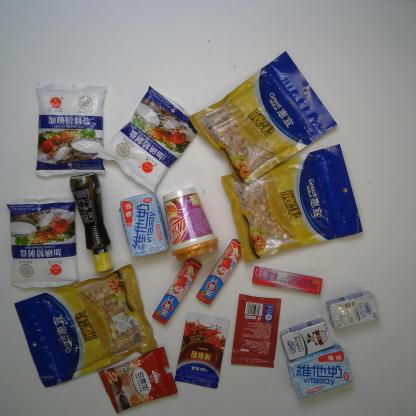Candy: (152, 258, 202, 324), (196, 239, 245, 305), (252, 266, 323, 294)
Dried Fruit: (189, 51, 337, 187), (14, 264, 158, 388), (221, 144, 363, 264)
Instant Drink: (98, 346, 178, 413), (162, 187, 218, 262)
Milk: (286, 344, 354, 400), (120, 192, 169, 258), (280, 318, 334, 361), (326, 291, 380, 329)
Seasoner: (97, 85, 204, 194), (35, 82, 108, 176), (6, 197, 80, 289), (68, 171, 114, 273), (174, 312, 230, 389), (231, 294, 281, 368)
